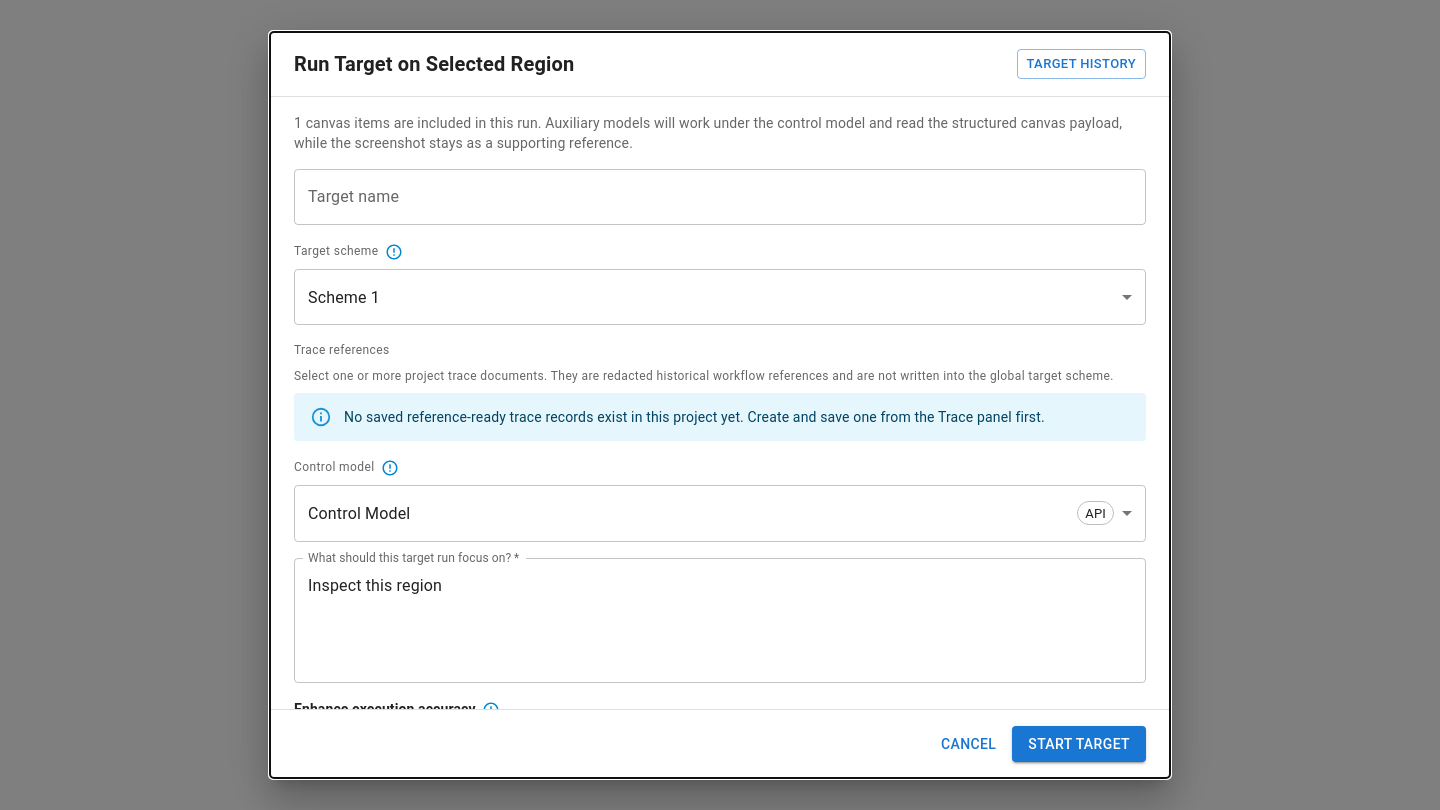
Test case: CanvasTargetDialog › moves scheme and control hints into hover tooltips
Expected: the text "Unique scheme description for tooltip testing." is not shown
Expected: the text "A multimodal model is recommended for the control model." is not shown
Hover over the button named "Show target scheme details" at coordinates (394, 252), box [382,241,404,263]
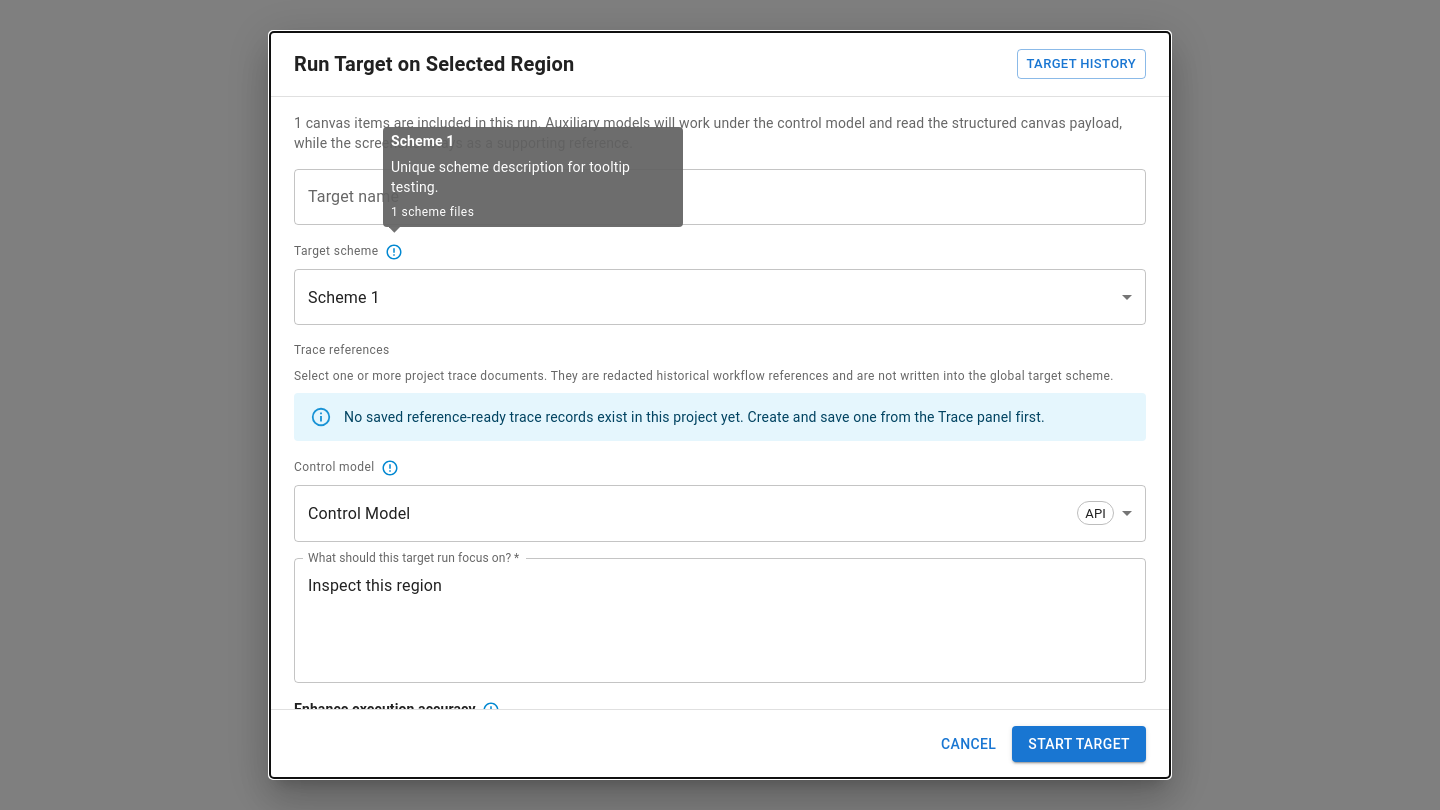
Expected: the text "Unique scheme description for tooltip testing." is shown, [391,159,630,195]
Move the pointer off the button named "Show target scheme details", box [382,241,404,263]
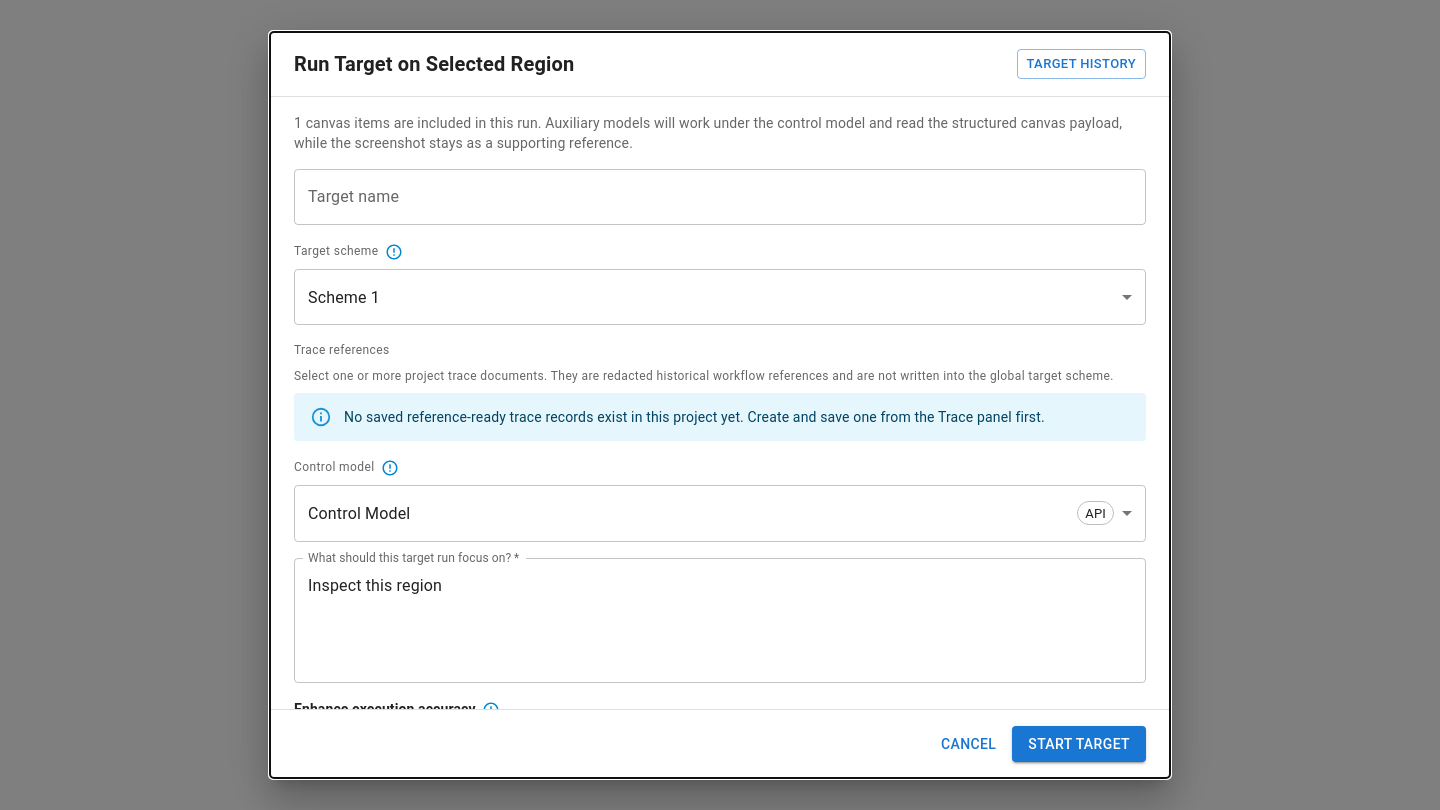
Hover over the button named "Show control model guidance" at coordinates (390, 468), box [378,457,400,479]
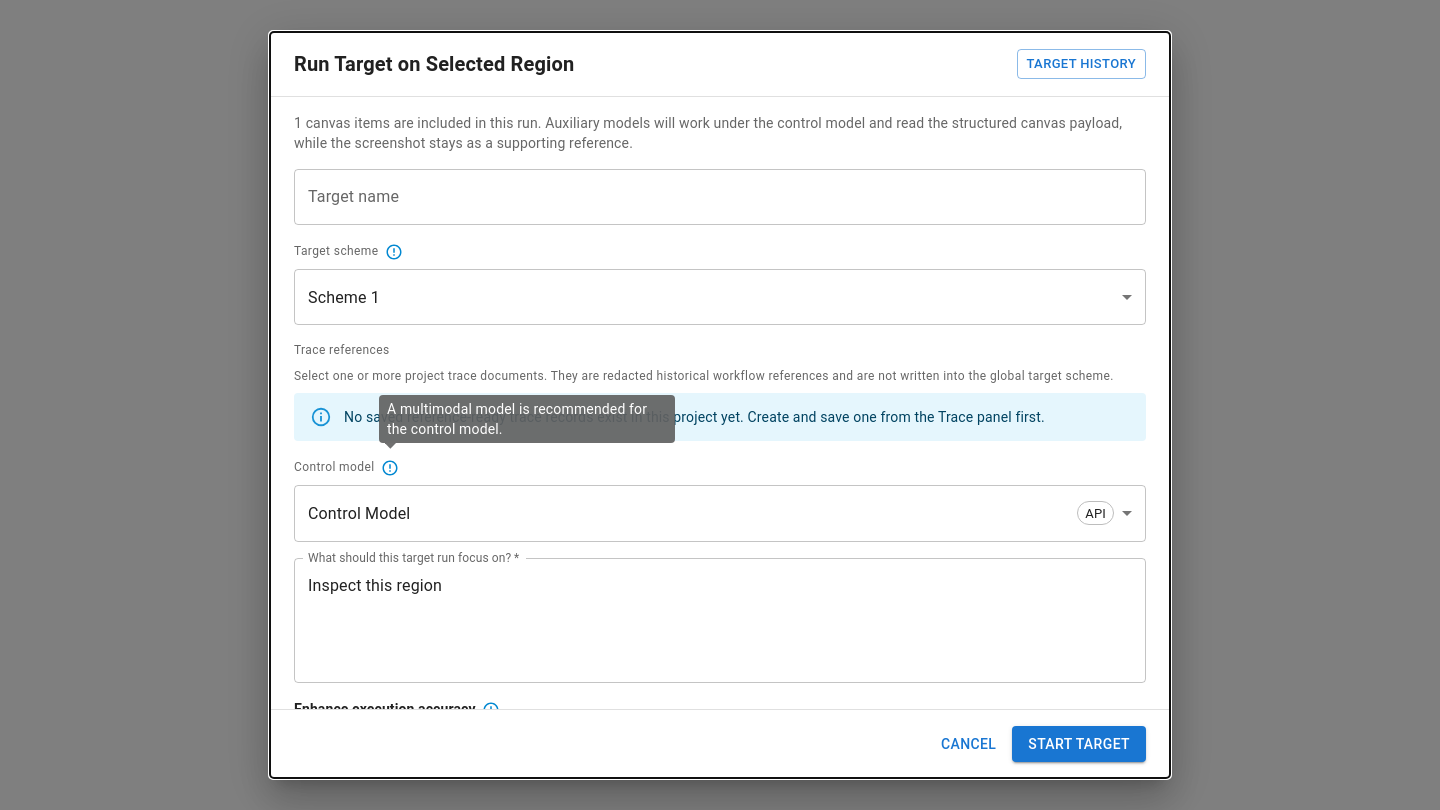
Expected: the text "A multimodal model is recommended for the control model." is shown, [387,399,667,439]
